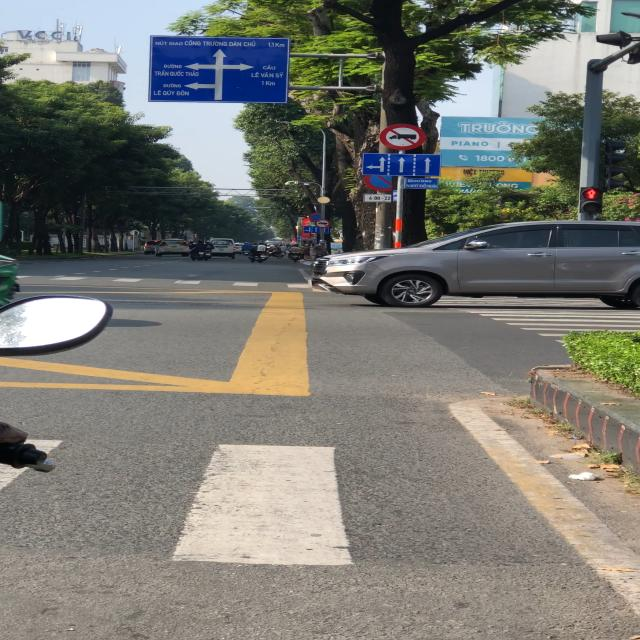Bien bao cam xe so-mi ro-mooc: (376, 121, 426, 151), (314, 218, 332, 228)
